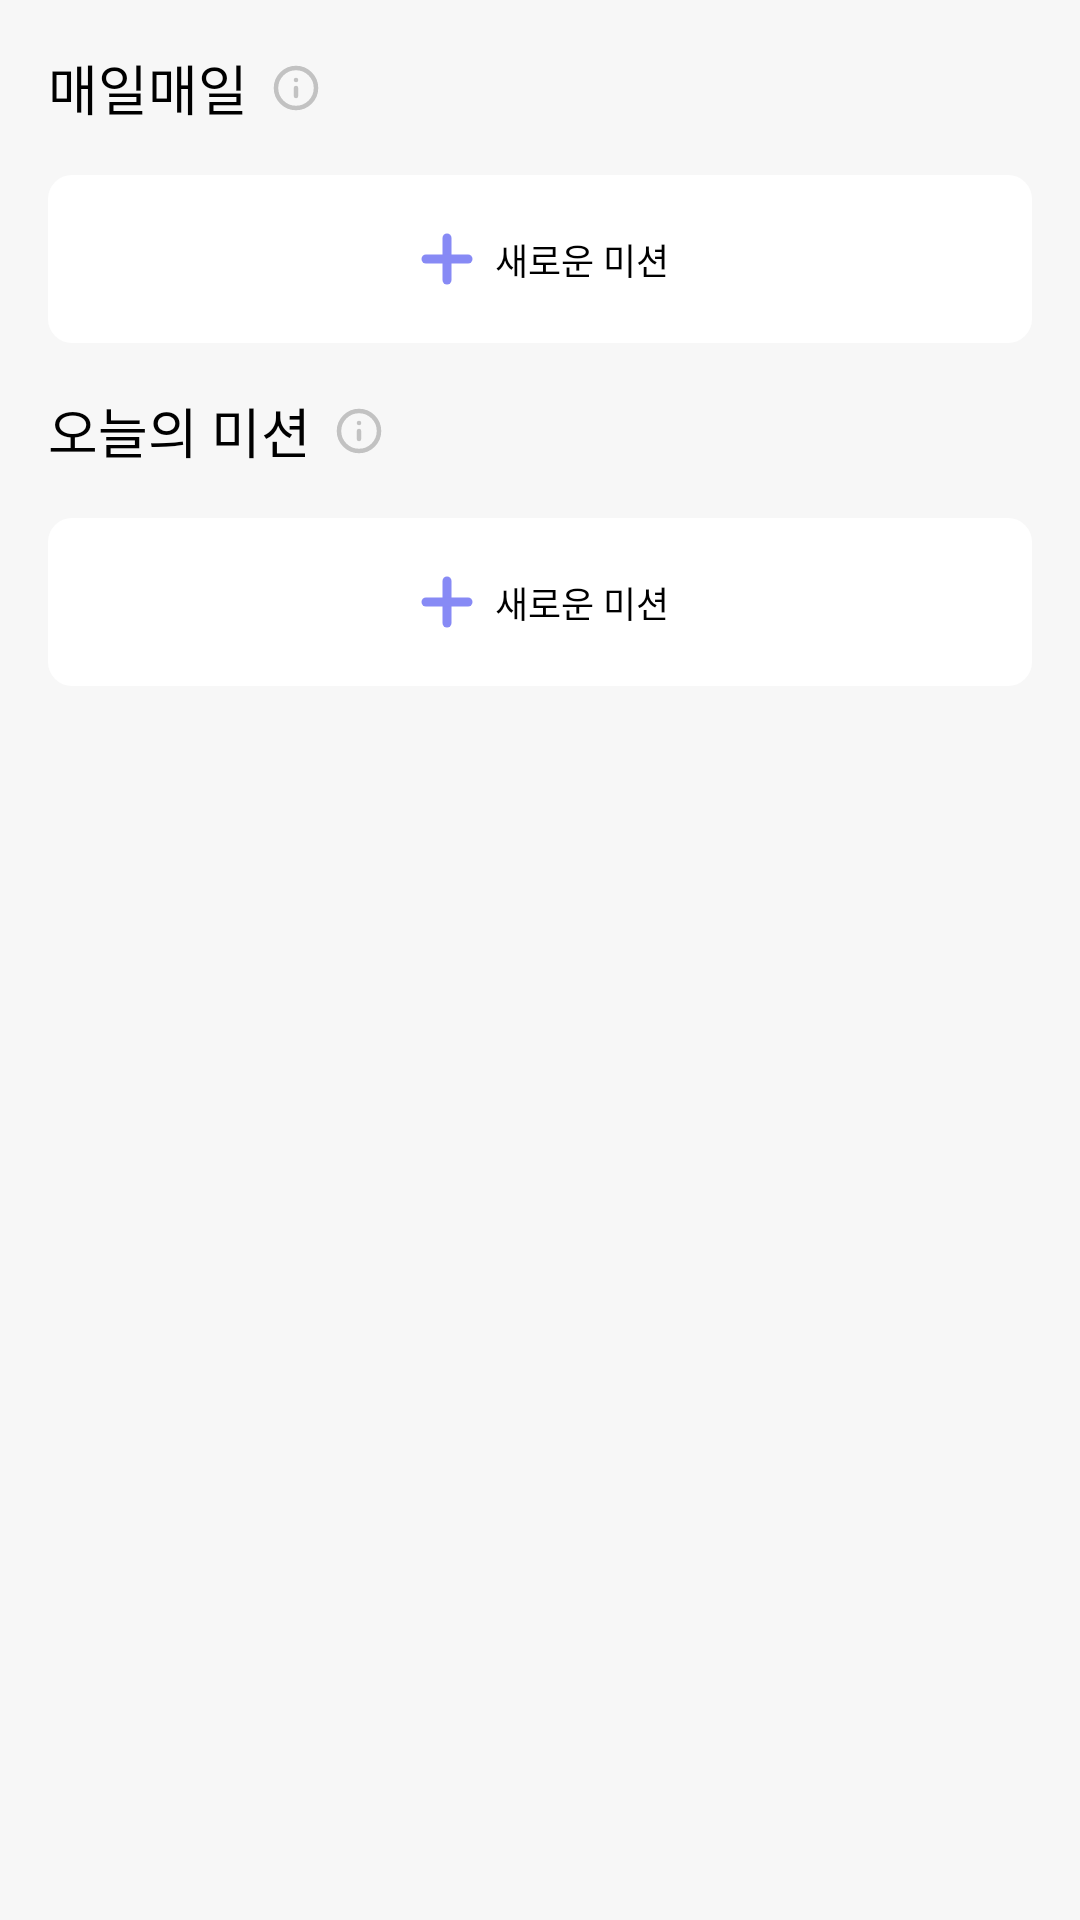

Where icons sit on this 1080 × 1920 app screen, as BBox(x1, y1, x2, y2):
info: BBox(274, 66, 318, 110), BBox(337, 409, 381, 453)
plus: BBox(421, 233, 473, 285), BBox(421, 576, 473, 628)
